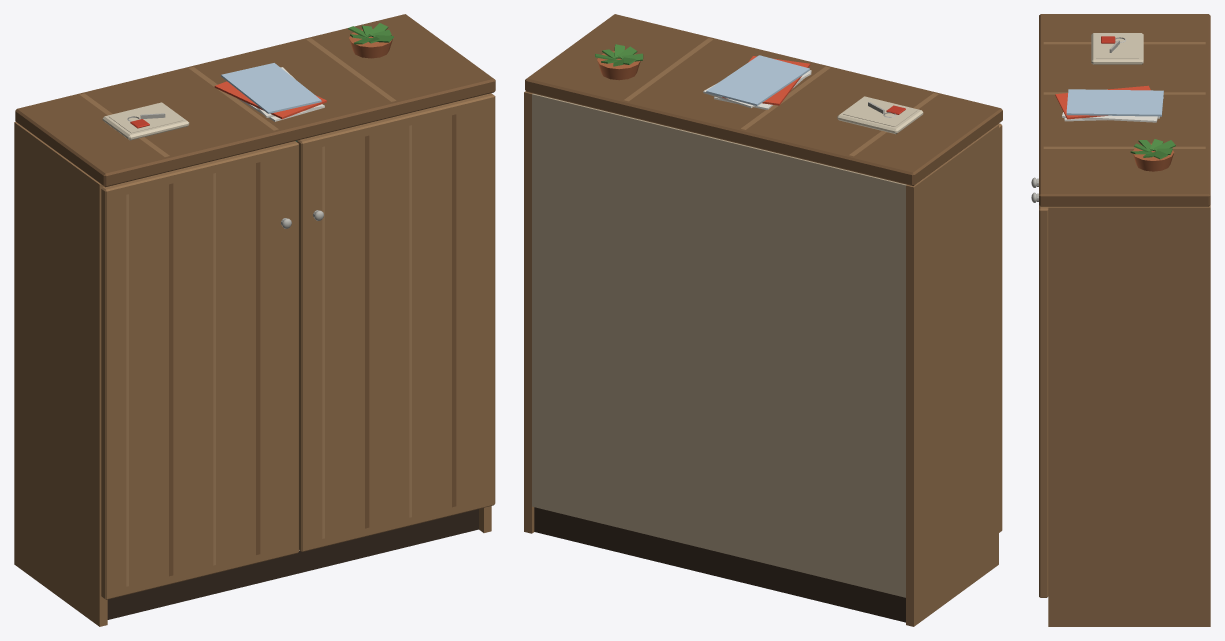
File: shoebox.glb
The picture shows the model from 3 angles, left to right: view 1: azimuth 30°, elevation 25°; view 2: azimuth 150°, elevation 25°; view 3: azimuth 270°, elevation 25°; orthographic projection. The views are drawn at different scales.
Visible parts, largest first — view 1: body, door_l, door_r; view 2: body, door_l; view 3: body, door_r.
Part boxes in pixels (box(x1,y1,x2,y2)): body: box(14, 14, 495, 626); door_l: box(101, 141, 298, 599); door_r: box(297, 93, 495, 551); body: box(524, 14, 1002, 626); door_l: box(997, 123, 1002, 532); body: box(1039, 14, 1210, 626); door_r: box(1031, 192, 1048, 597).
Bounding box in the file's own units: 0.9 × 1.04 × 0.3756.
